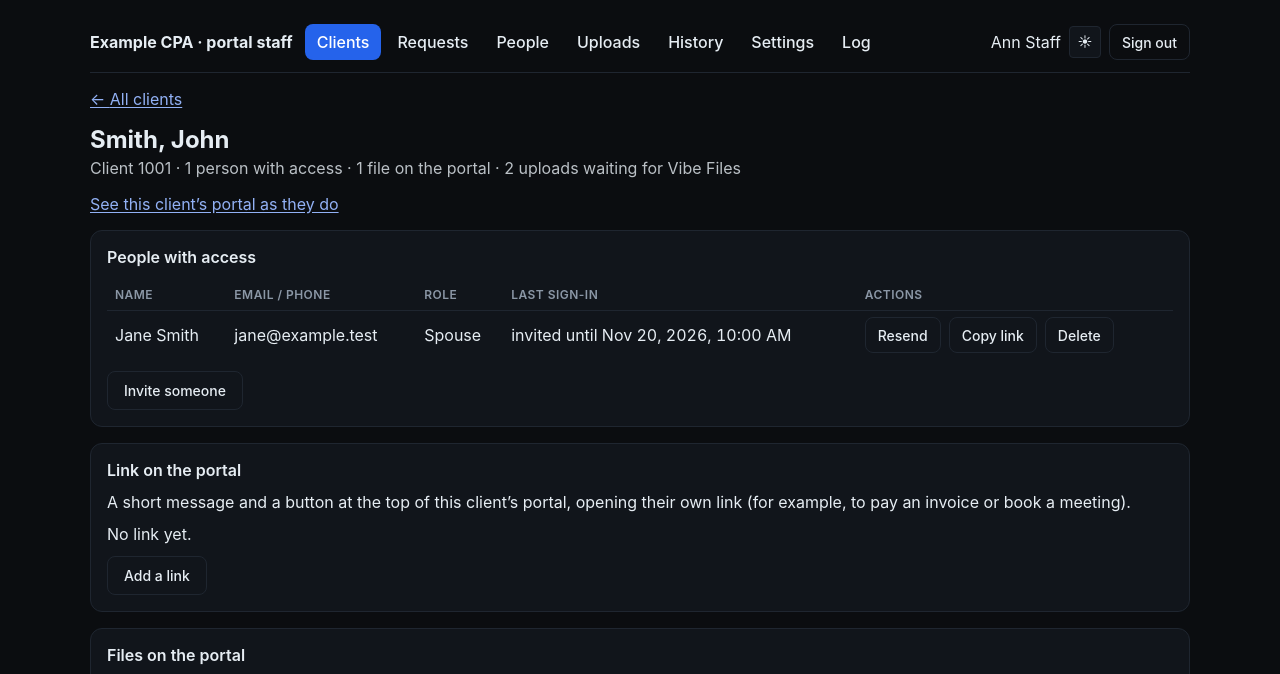
Test case: staff page › client page: an invitation link is made to copy instead of sent (P101)
The image size is (1280, 674).
What coordinates should you click on to do the following:
click the button with aria-label "Copy an invitation link for jane@example.test"
I would click on:
 (993, 335)
Its box is [949, 317, 1037, 353].
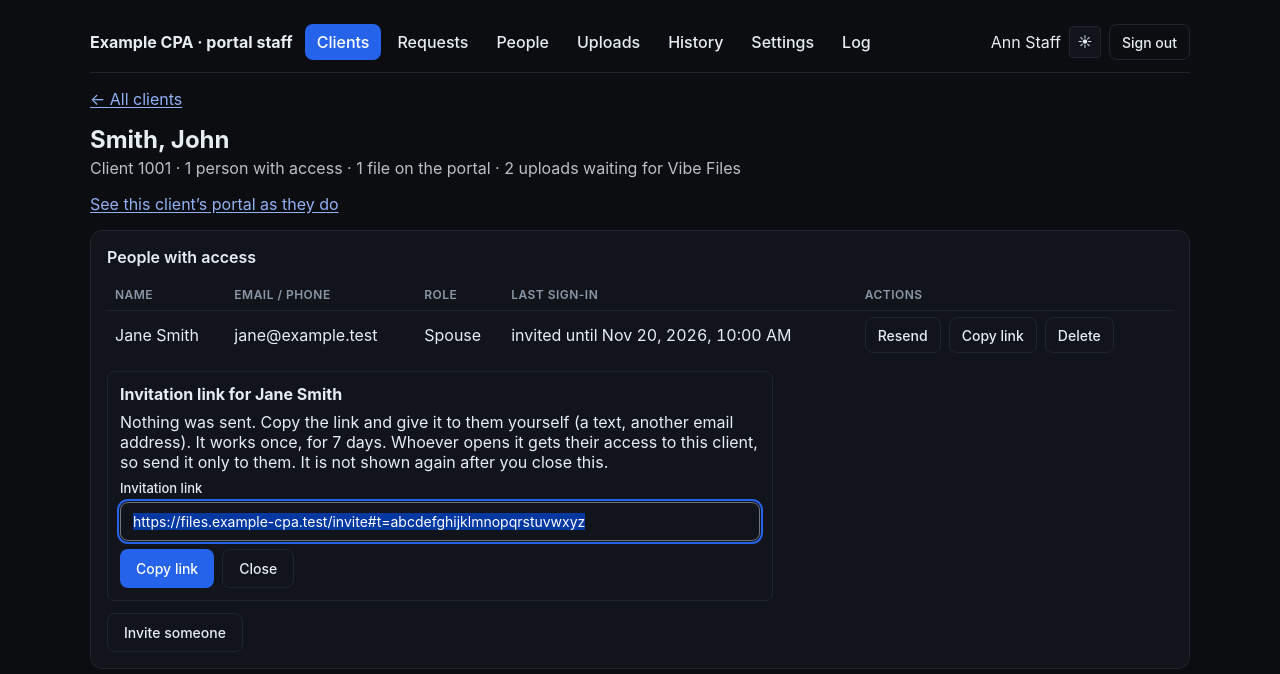
Result: the field labelled "Invitation link" holds "https://files.example-cpa.test/invite#t=abcdefghijklmnopqrstuvwxyz" at [120, 502, 760, 541]
What coordinates should you click on to do the following:
click the button "Copy link" below "Invitation link for"
I would click on:
 (167, 568)
Its box is [120, 549, 214, 588].
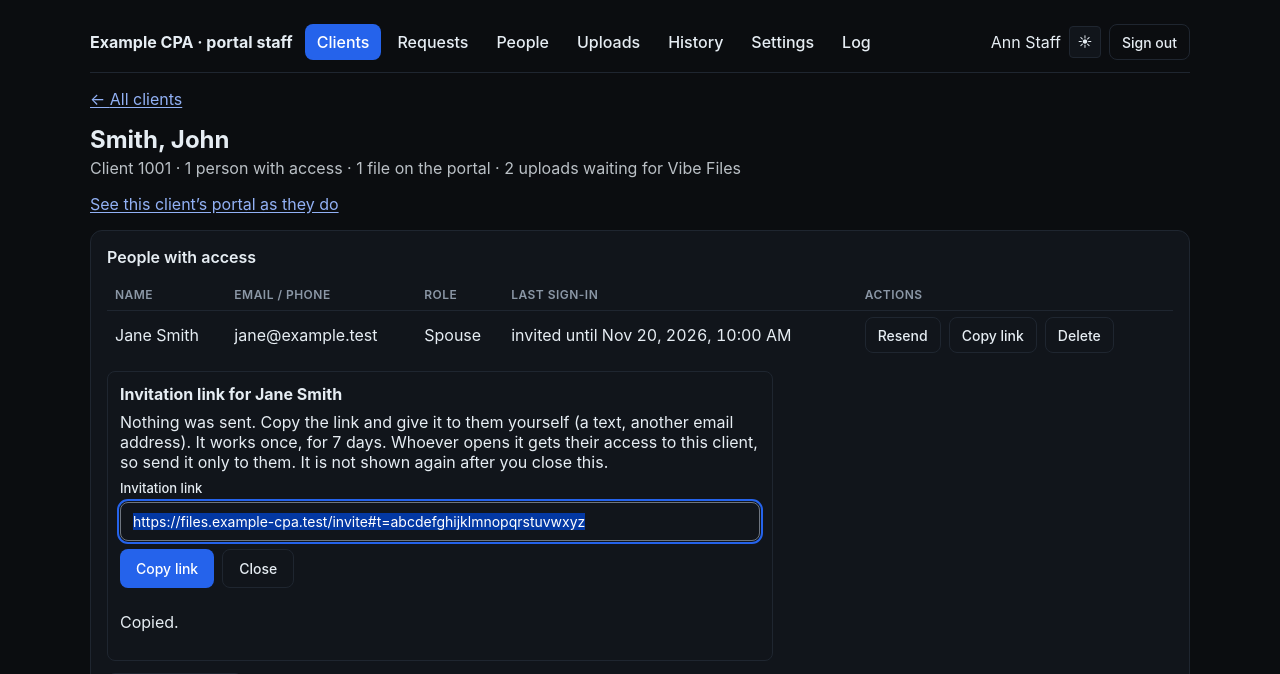
Result: the text "Copied." is shown at [120, 612, 179, 632]
// Closed, it is gone: it is shown once.
What coordinates should you click on to do the following:
click the button "Close"
I would click on:
 (258, 568)
Its box is [222, 549, 294, 588].
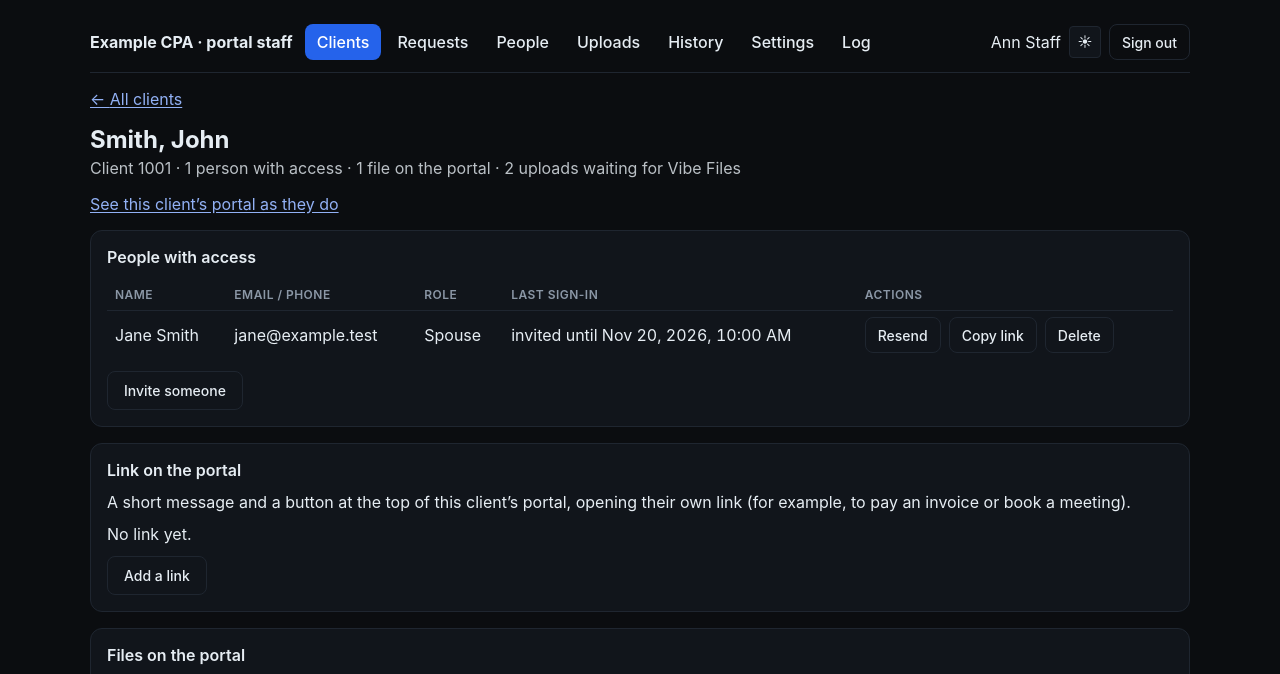
Result: the text labelled "Invitation link" is gone
